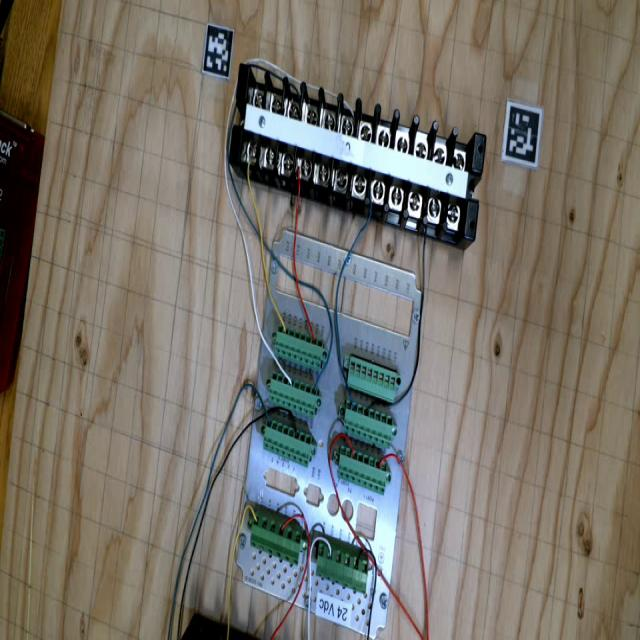Phillips_Block: (211, 58, 506, 240)
Terminal_1: (242, 510, 312, 566), (308, 539, 378, 594)
Terminal_2: (329, 443, 396, 496), (255, 416, 320, 468), (335, 399, 401, 449), (263, 370, 324, 418), (268, 324, 330, 371)
